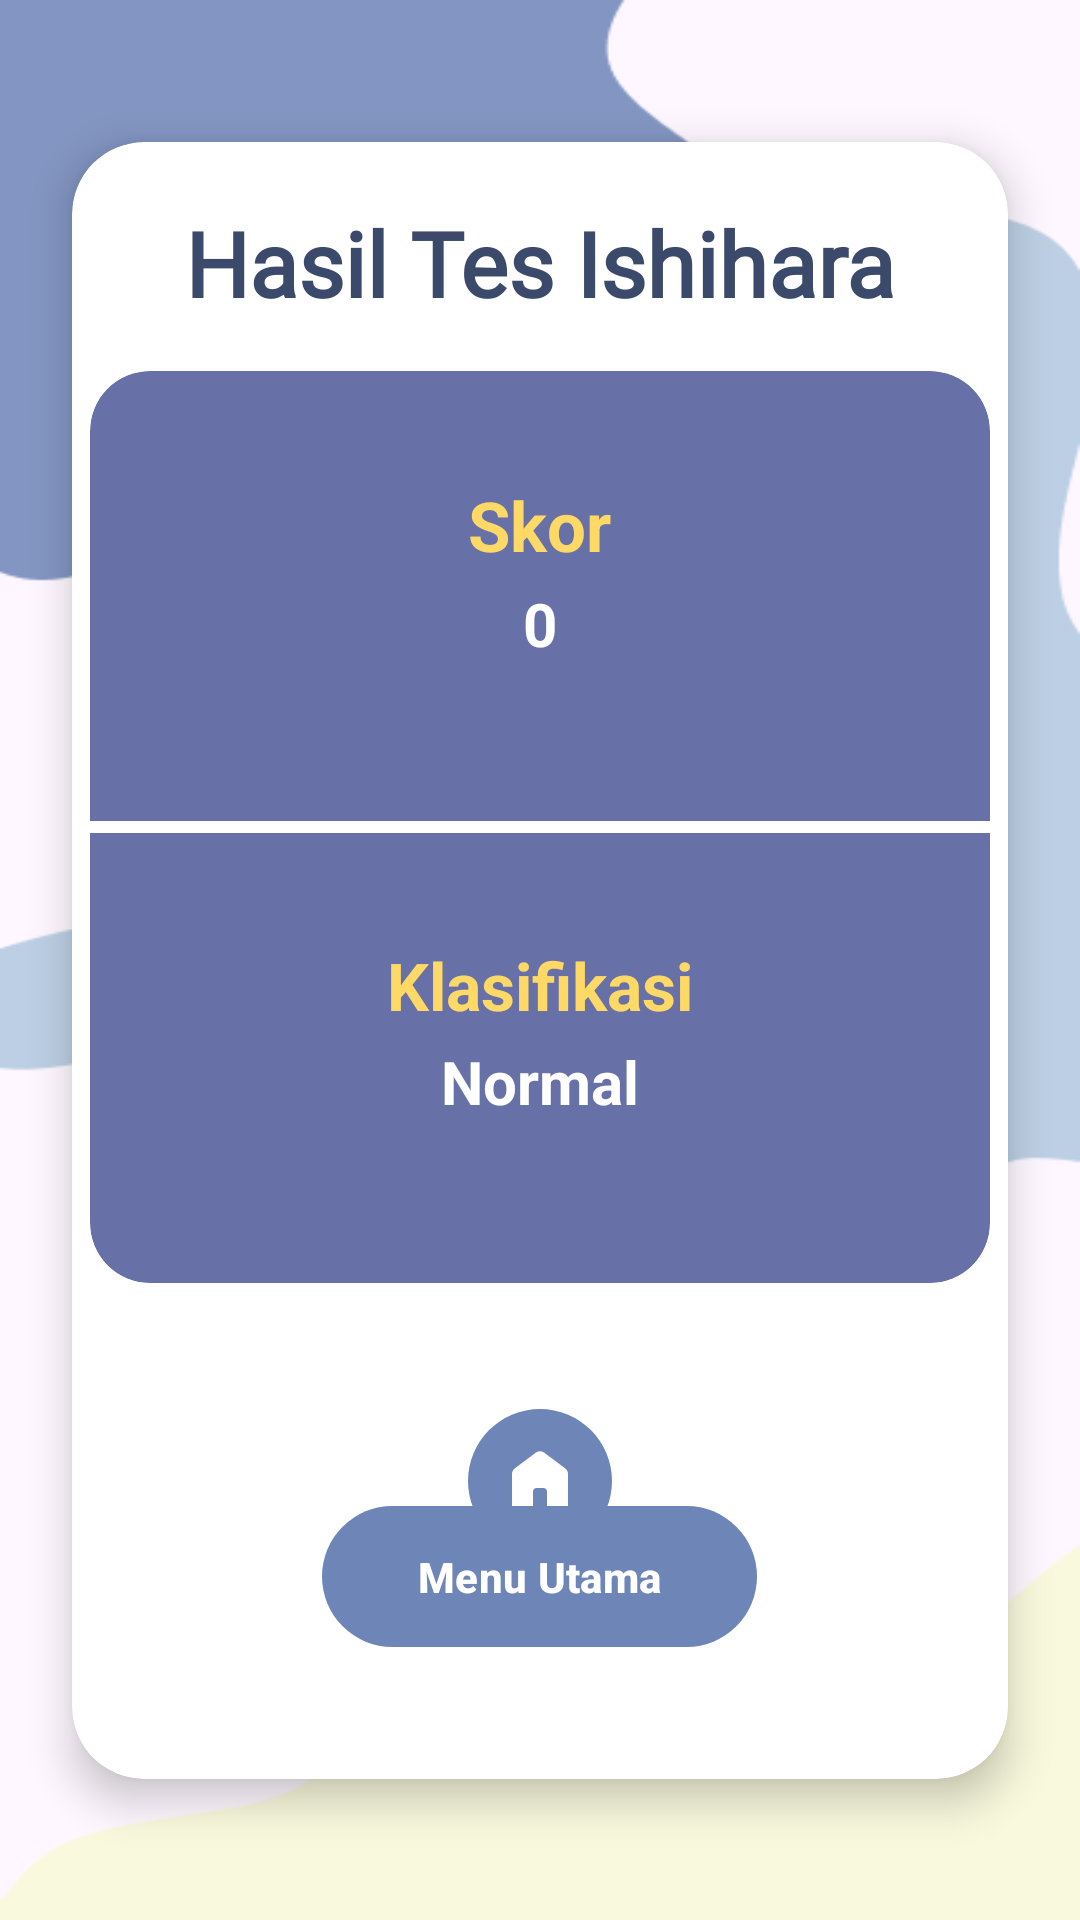

Icon click points for this 1080*1920 phone screenshot, format point (x, y):
home: point (540, 1481)
